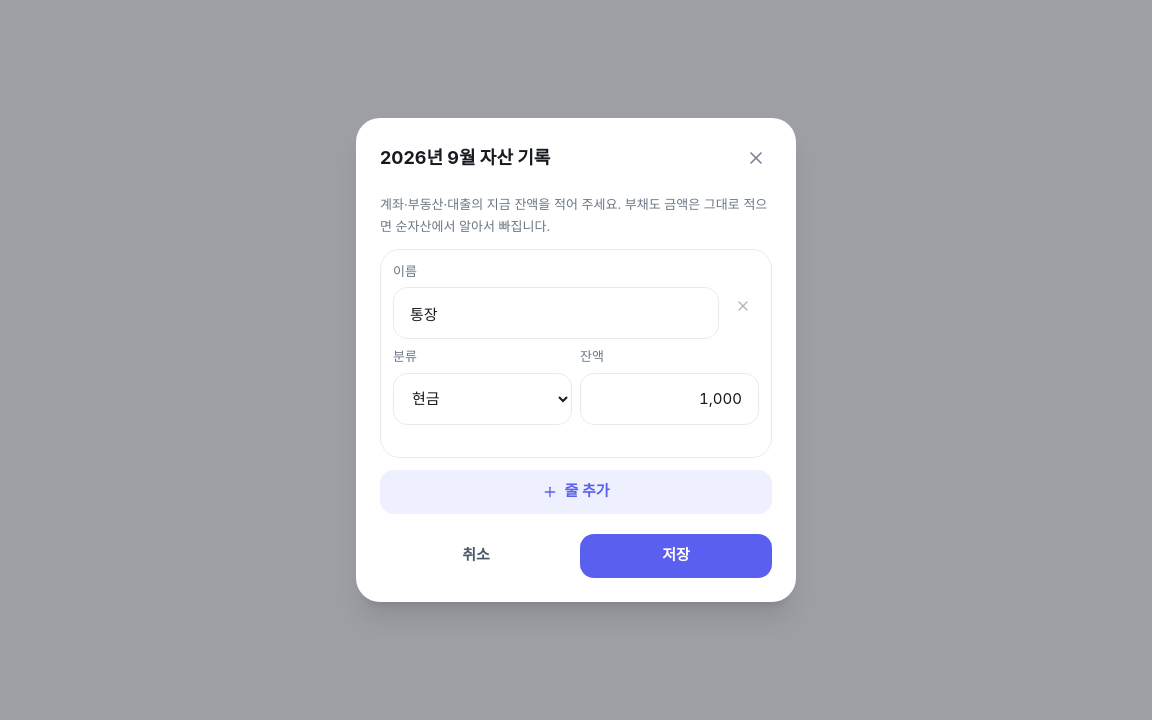
Scenario: 저장 › 모든 줄의 이름이 비면 저장할 수 없다
Clear the field labelled "이름" at x=556, y=313, box [393,287,719,339]
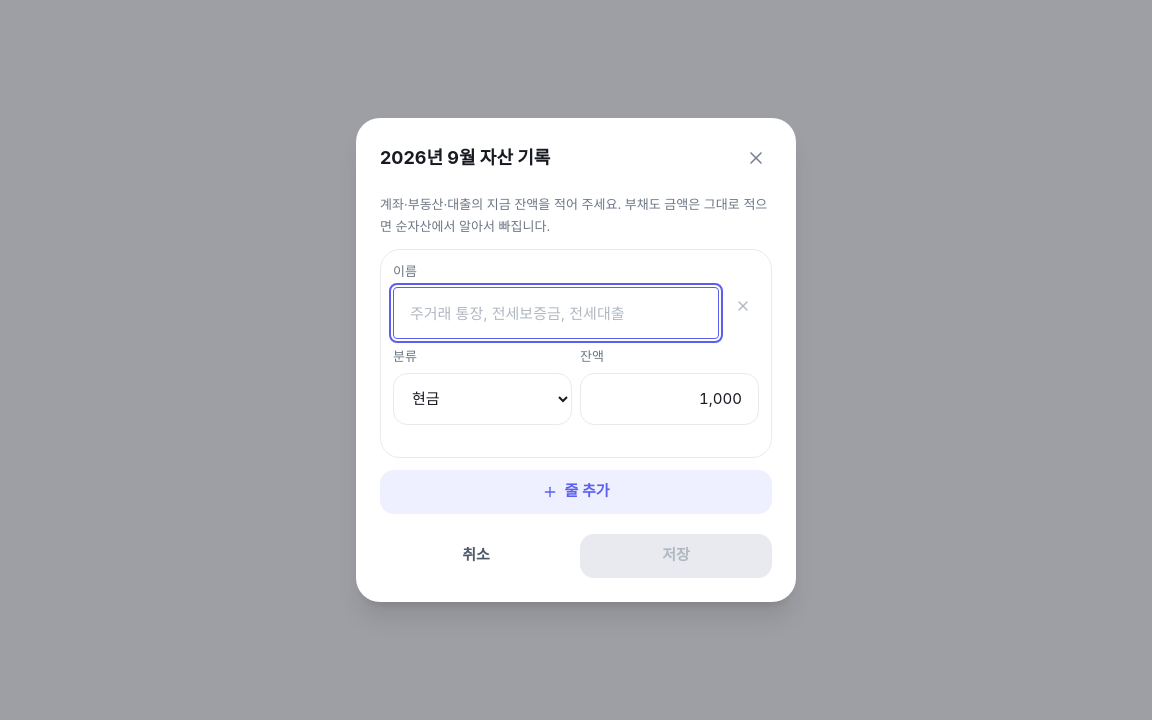
expect the button "저장" is disabled: met, box [580,534,772,578]
